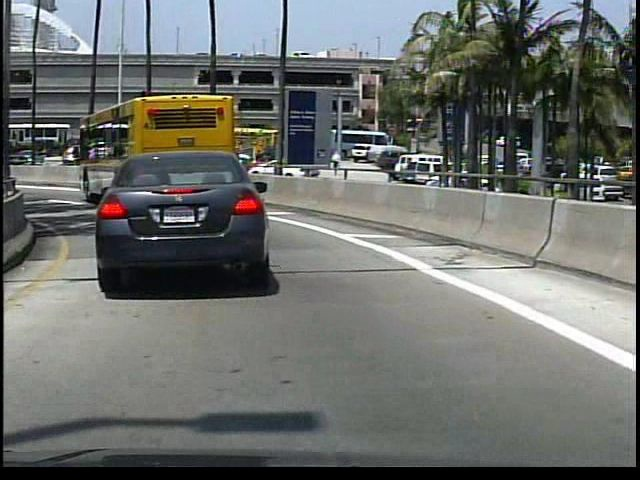person: (327, 149, 342, 180)
